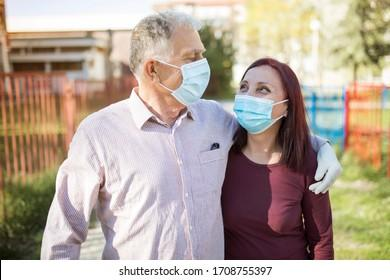gloves: (309, 142, 341, 194)
